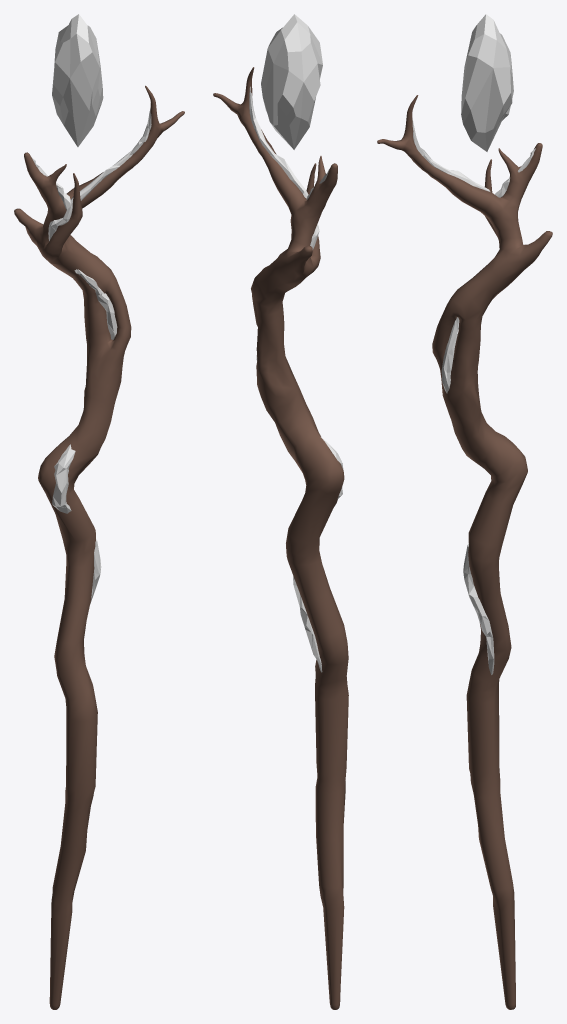
File: Thunderlight.fbx
3 renders of one model, left to right at view 1: azimuth 90°, elevation 25°; view 2: azimuth 210°, elevation 25°; view 3: azimuth 270°, elevation 25°, orthographic. The views are drawn at different scales.
Visible parts, largest first — view 1: Thunderlight_Staff, Thunderlight_Crystal; view 2: Thunderlight_Staff, Thunderlight_Crystal; view 3: Thunderlight_Staff, Thunderlight_Crystal.
Part boxes in pixels (left/top/right/bottom): Thunderlight_Staff: left=14, top=85, right=184, bottom=1009; Thunderlight_Crystal: left=52, top=14, right=103, bottom=146; Thunderlight_Staff: left=213, top=67, right=348, bottom=1009; Thunderlight_Crystal: left=261, top=14, right=322, bottom=149; Thunderlight_Staff: left=377, top=95, right=552, bottom=1009; Thunderlight_Crystal: left=461, top=14, right=513, bottom=151.
Bounding box in the file's own units: 0.1283 × 1.49 × 0.2346.
